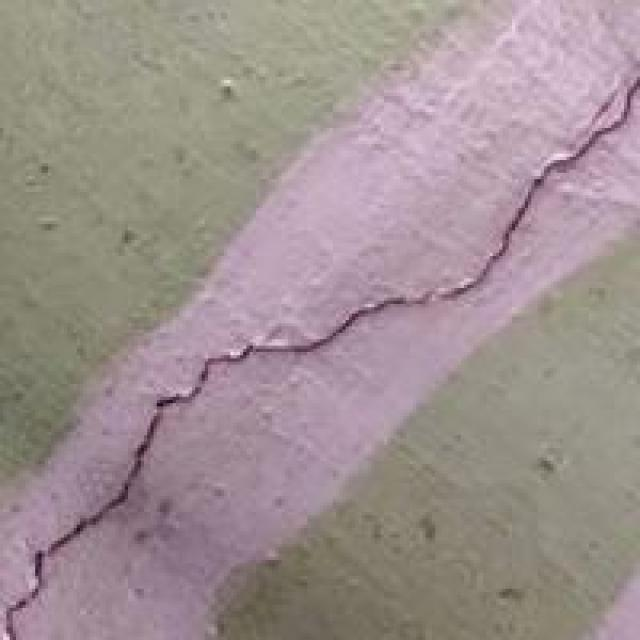crack: (3, 80, 637, 637)
